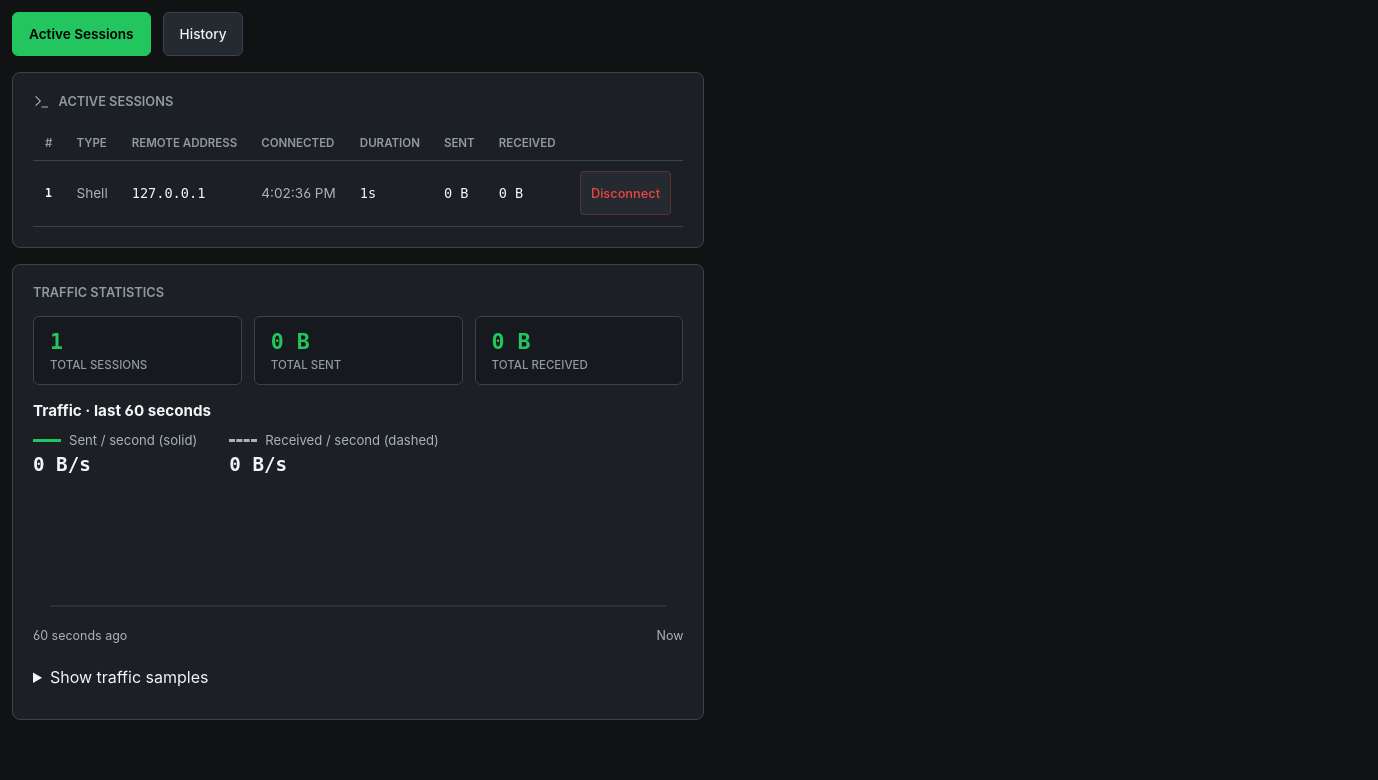
Test: reloads only after clear completes, using the epoch main advanced while stopping sessions
Expected: the text "127.0.0.1" is shown, [120,161,249,226]
Click the button "History" at (203, 34), box [163,12,244,56]
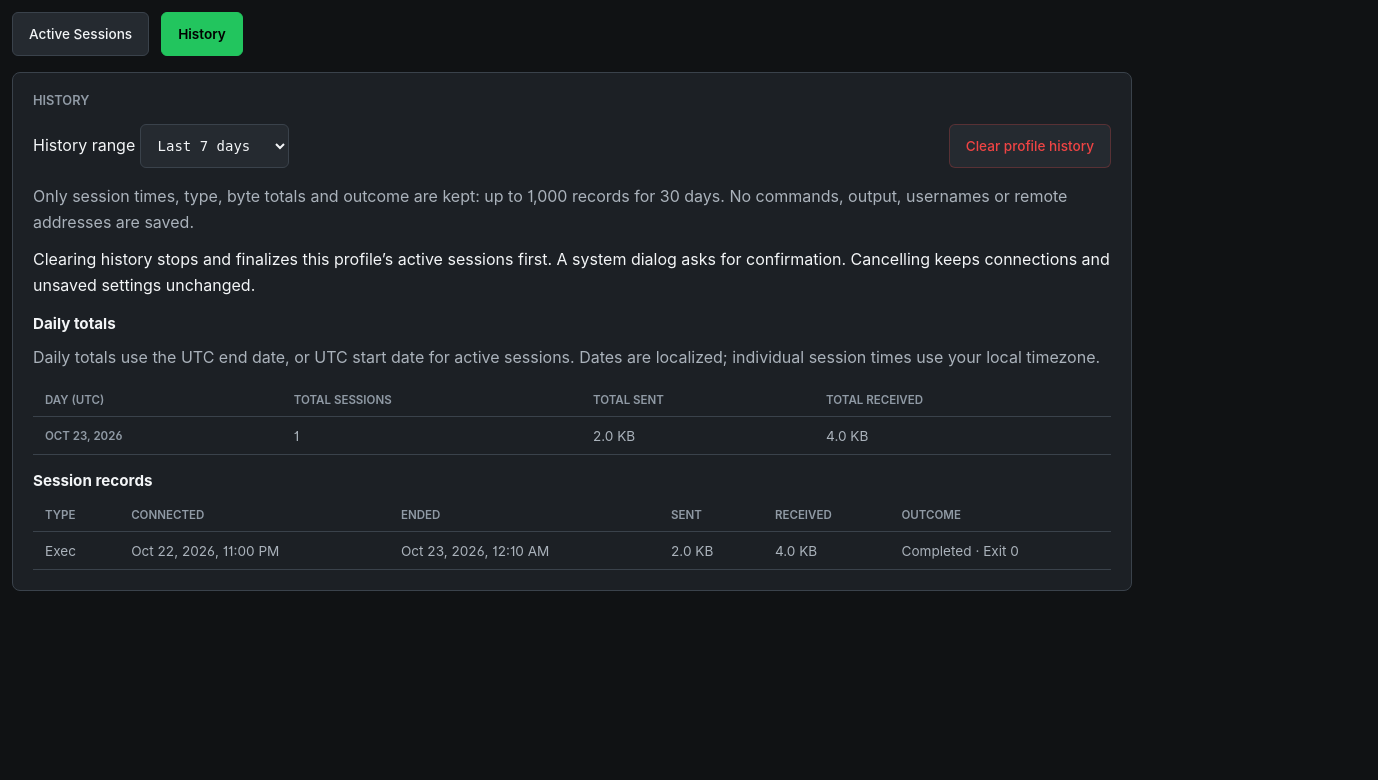
Expected: the text "Completed · Exit 0" is shown, [890,532,1111,569]
Click the button "Clear profile history" at (1030, 146), box [949,124,1111,168]
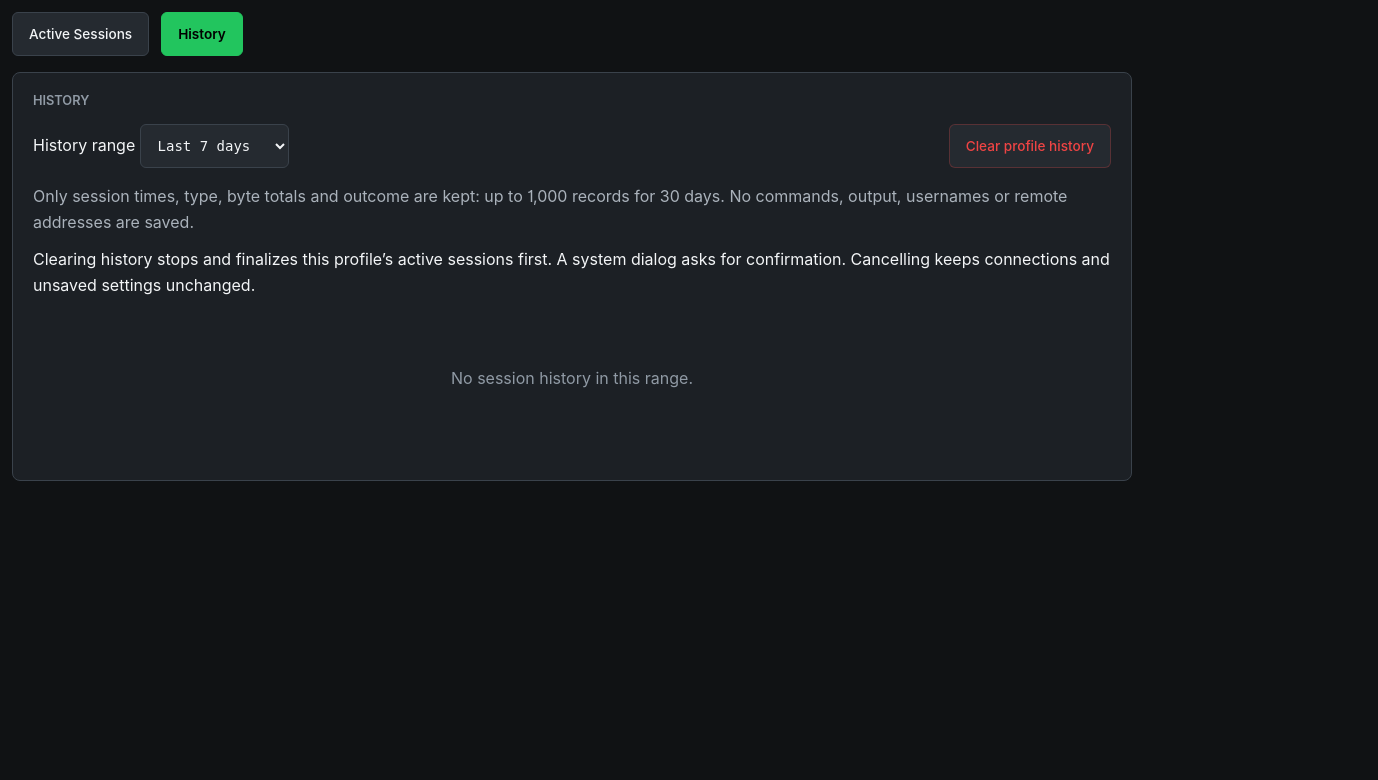
Expected: the text "No session history in this range." is shown, [451,368,693,388]
Expected: the text "Completed · Exit 0" is gone
